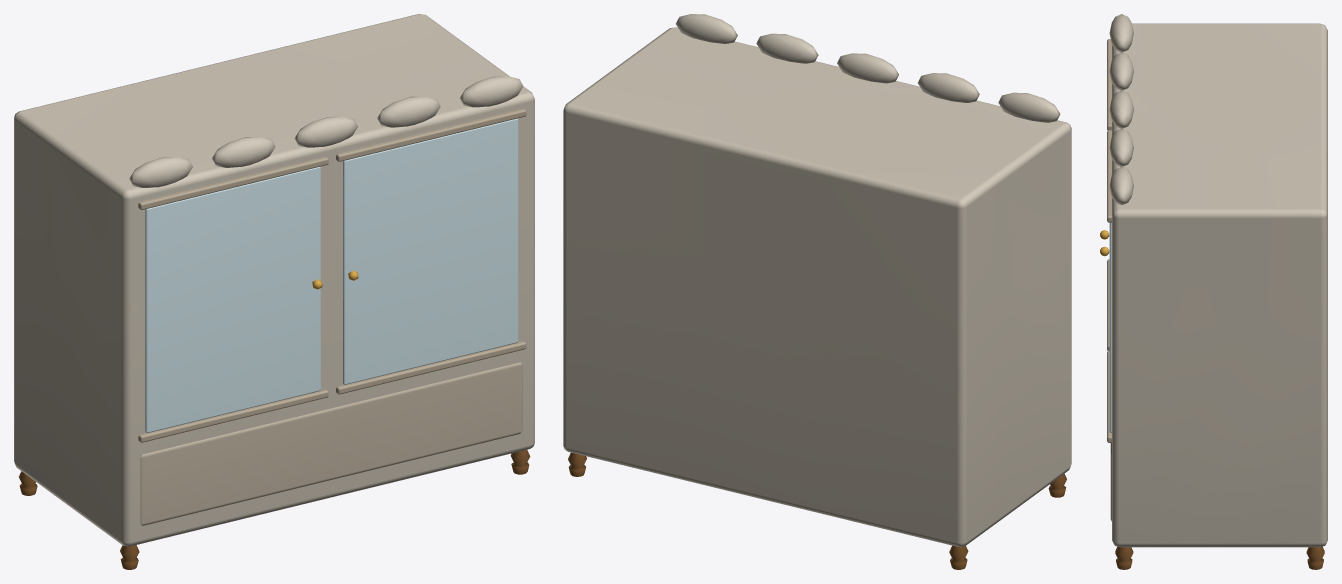
The model's file is furn_china_cabinet.glb.
3 renders of one model, left to right at view 1: azimuth 30°, elevation 25°; view 2: azimuth 150°, elevation 25°; view 3: azimuth 270°, elevation 25°, orthographic. The views are drawn at different scales.
Parts seen in each view (by area): view 1: furn_china_cabinet_main, furn_china_cabinet_clear; view 2: furn_china_cabinet_main; view 3: furn_china_cabinet_main, furn_china_cabinet_clear.
Boxes of the visible parts, x1,y1,x2,y2 form: furn_china_cabinet_main: (14,14,534,569); furn_china_cabinet_clear: (145,118,518,432); furn_china_cabinet_main: (563,14,1071,569); furn_china_cabinet_main: (1107,14,1327,569); furn_china_cabinet_clear: (1109,222,1111,432).
Bounding box in the file's own units: 1.84 × 1.71 × 0.9287.
